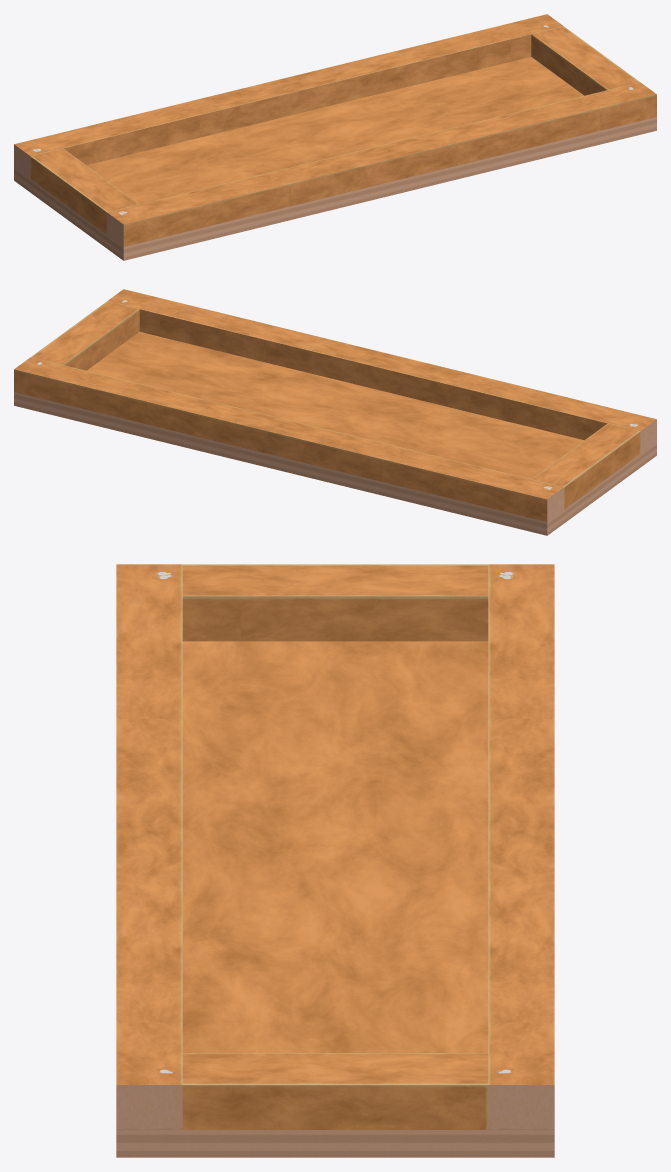
Rendered from LadderPlank_2.fbx.
The picture shows the model from 3 angles, top to bottom: view 1: azimuth 30°, elevation 25°; view 2: azimuth 150°, elevation 25°; view 3: azimuth 270°, elevation 25°; orthographic projection. The views are drawn at different scales.
Visible parts, largest first — view 1: LadderPlank_2; view 2: LadderPlank_2; view 3: LadderPlank_2.
Boxes of the visible parts, x1=… form: LadderPlank_2: x1=14, y1=14, x2=656, y2=260; LadderPlank_2: x1=14, y1=289, x2=656, y2=535; LadderPlank_2: x1=116, y1=564, x2=554, y2=1157.
Bounding box in the file's own units: 2 × 0.1304 × 0.7122.
